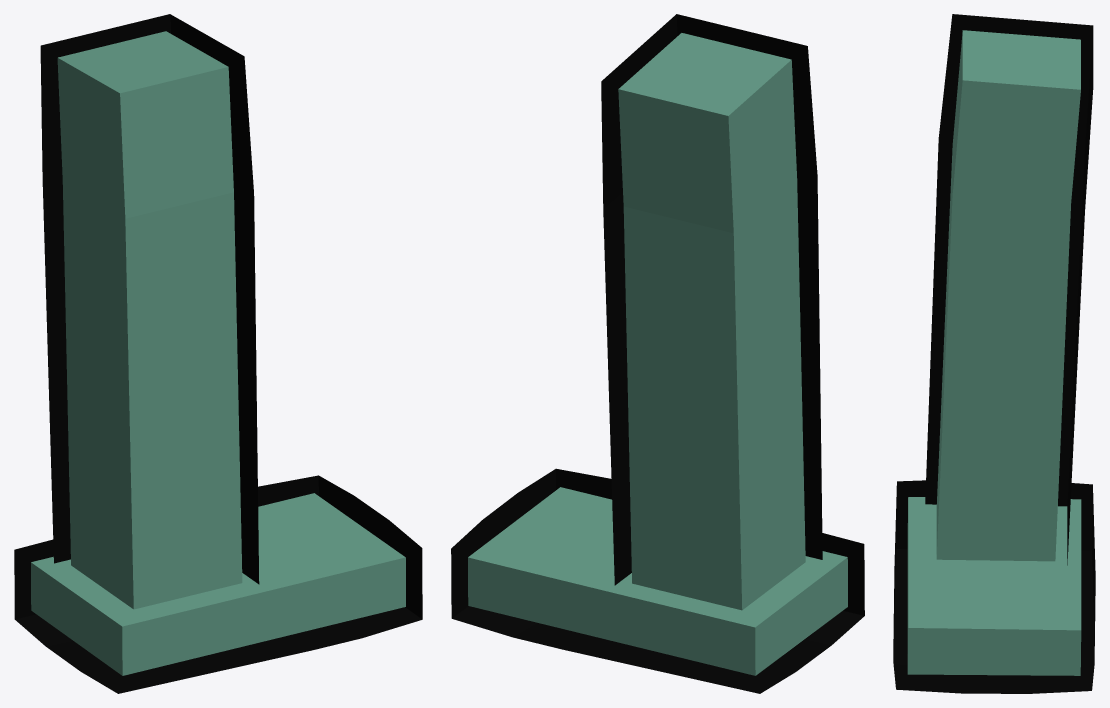
File: ZombieFoot.fbx
3 views of the same model, side by side, from view 1: azimuth 30°, elevation 25°; view 2: azimuth 150°, elevation 25°; view 3: azimuth 270°, elevation 25° (orthographic). The views are drawn at different scales.
Visible parts, largest first — view 1: Cube; view 2: Cube; view 3: Cube.
Part boxes in pixels (x1,y1,x2,y2): Cube: (14, 14, 422, 693); Cube: (451, 14, 864, 693); Cube: (893, 14, 1095, 693).
Size of the model in its own units: 42.76 by 77.54 by 25.55.
